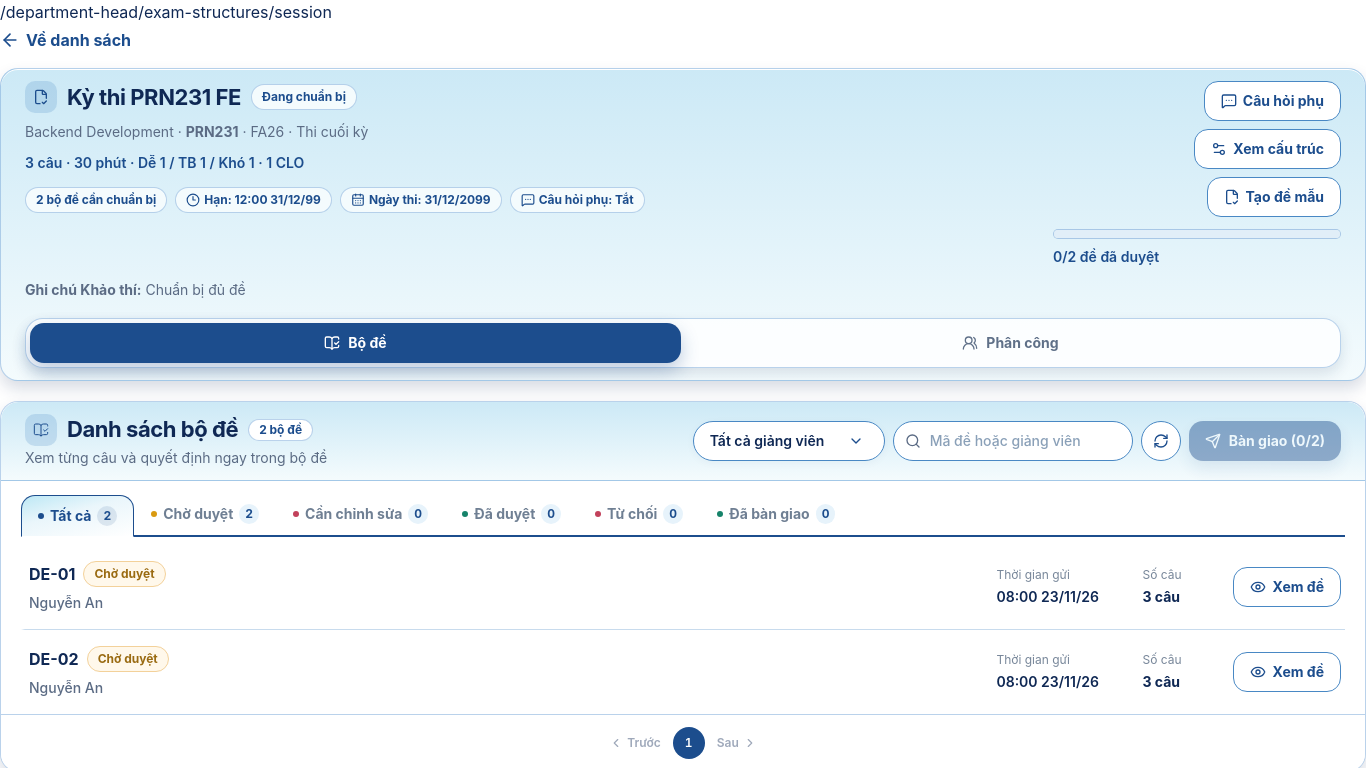
Test: Chuẩn bị đề thi trưởng bộ môn › requires revision notes and preserves the open modal on API failure
The image size is (1366, 768).
Click the button with aria-label "Xem bộ đề DE-01".
click(52, 574)  # box [21, 545, 1345, 630]
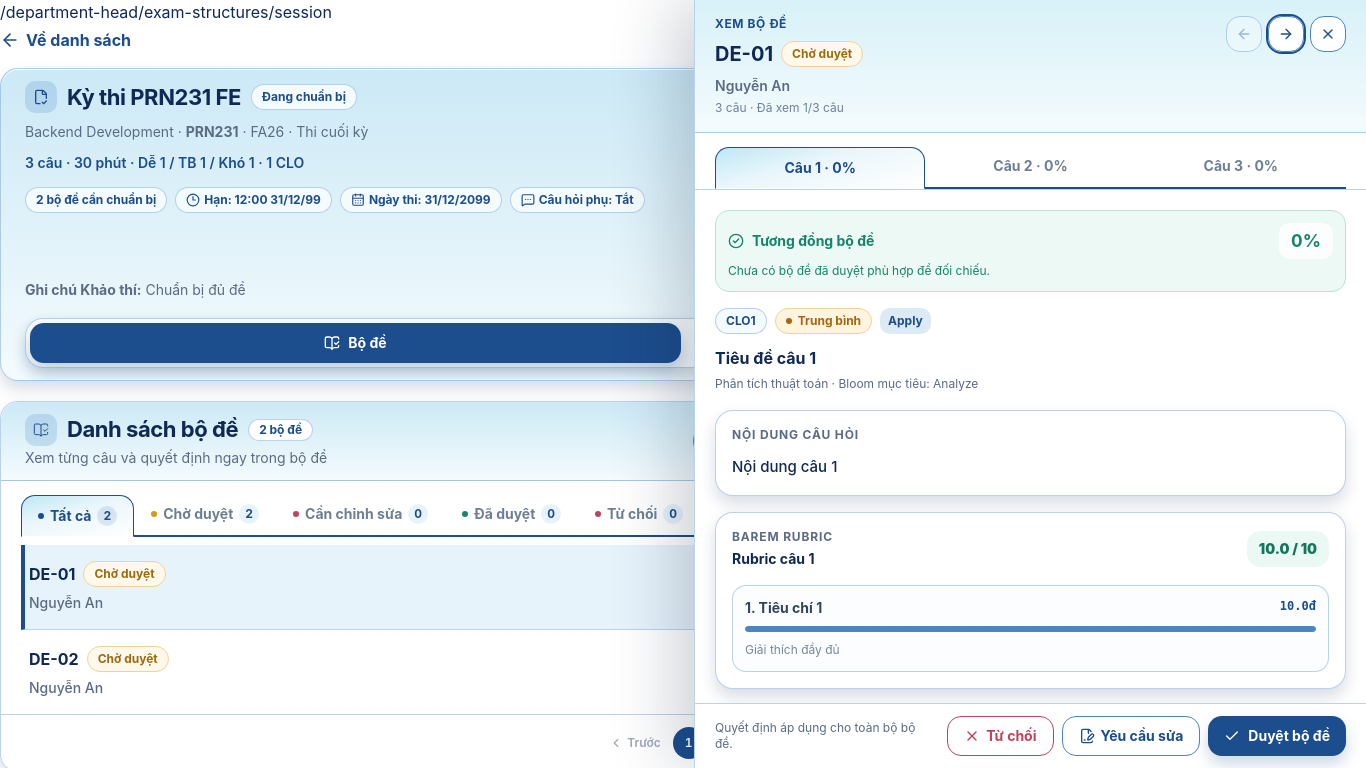
Click the button "Yêu cầu sửa".
click(1131, 736)  # box [1062, 716, 1200, 756]
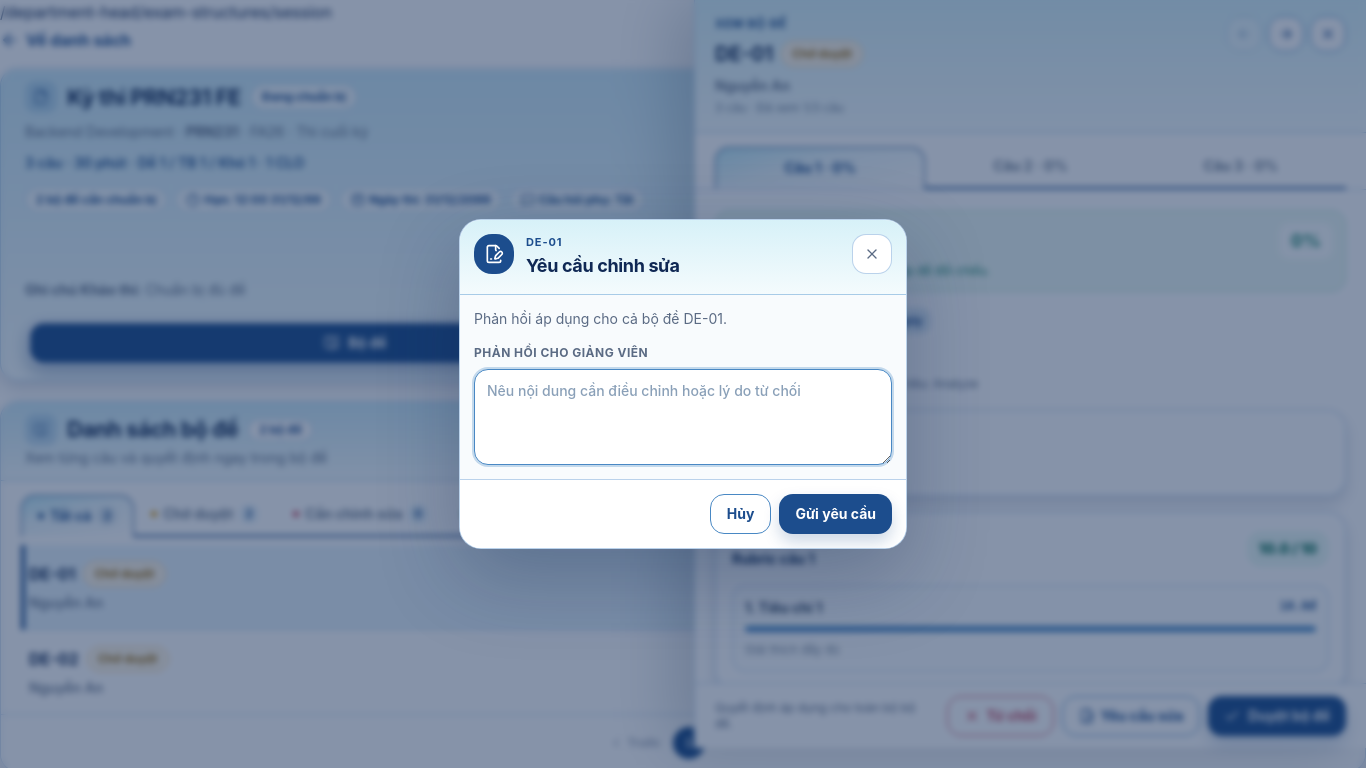
Submit the form, box [474, 309, 892, 465]
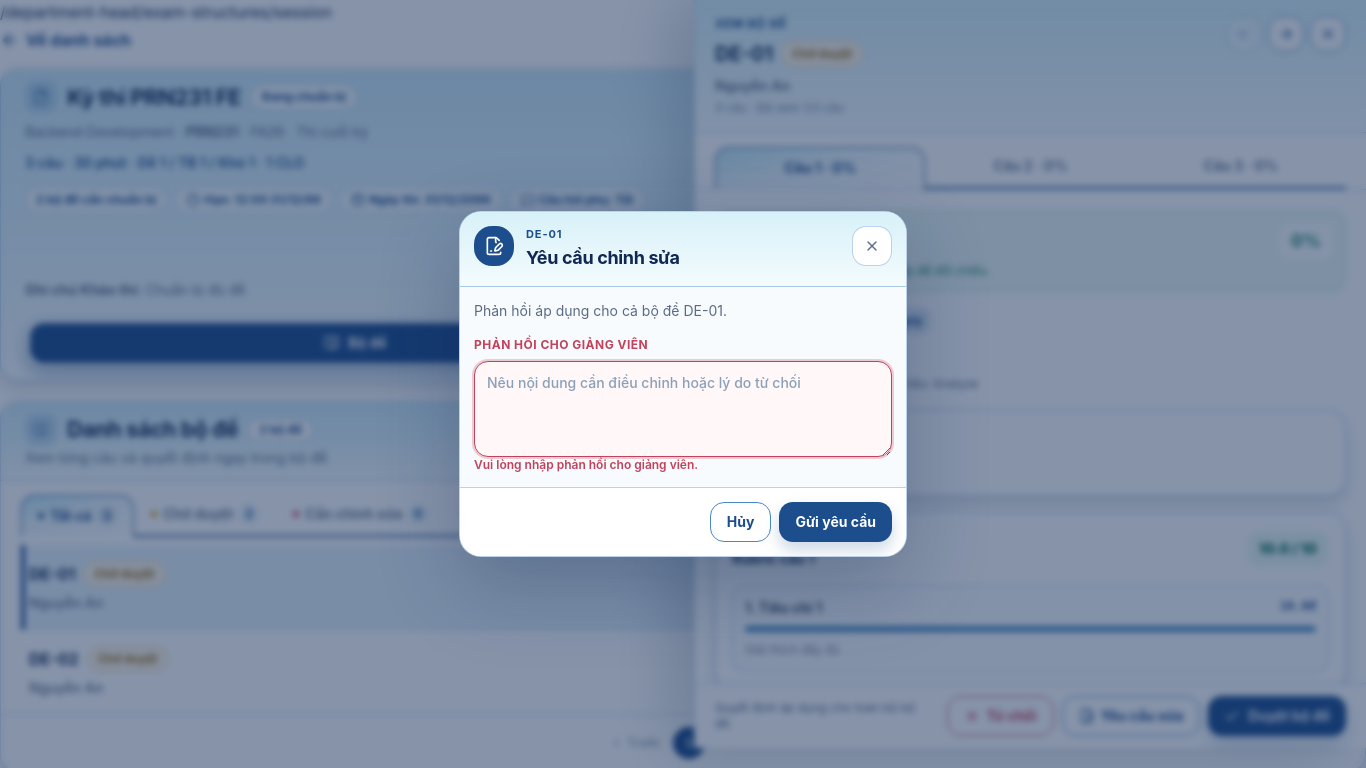
Expected: the text "Vui lòng nhập phản hồi cho giảng viên." is shown, [474, 457, 698, 472]
Type "Làm rõ tiêu chí chấm" into the text box labelled "Phản hồi cho giảng viên".
click(683, 409); type("Làm rõ tiêu chí chấm")  # box [474, 361, 892, 457]
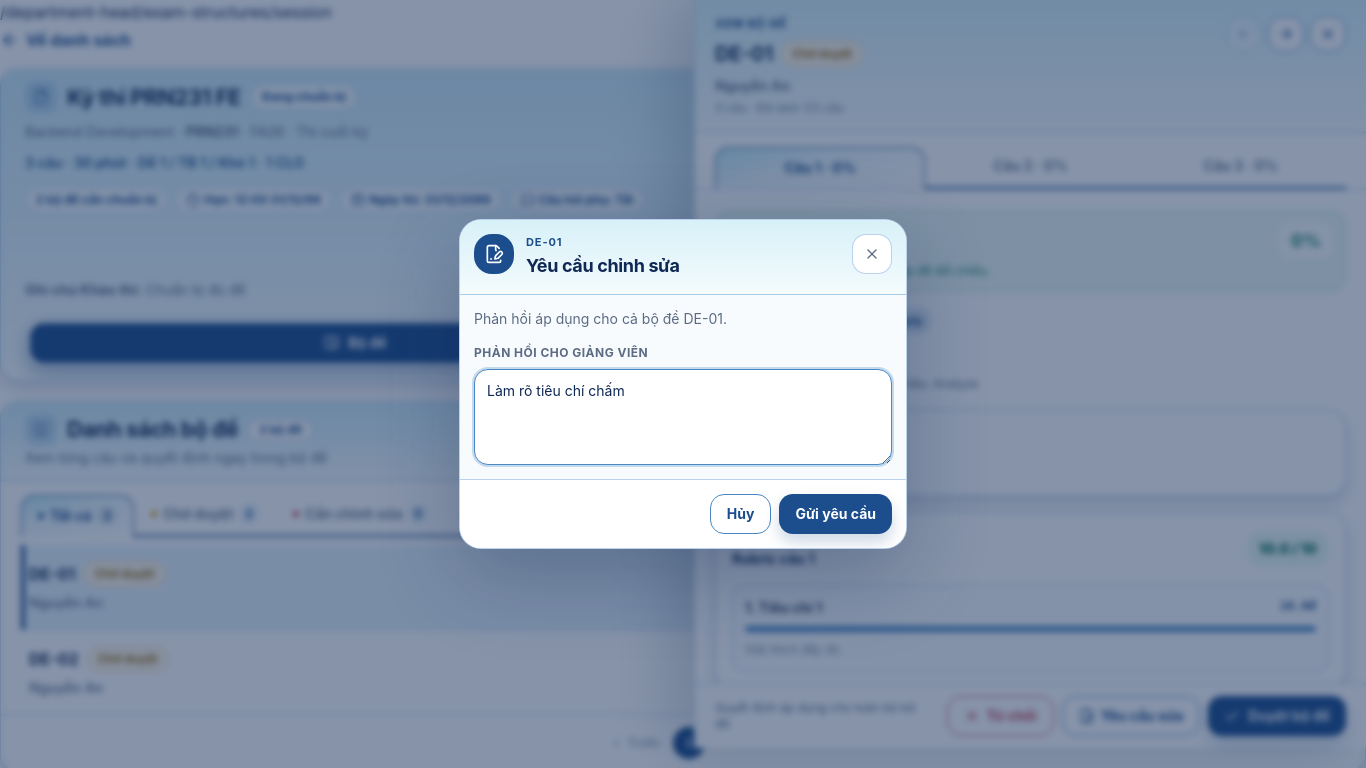
Submit the form, box [474, 309, 892, 465]
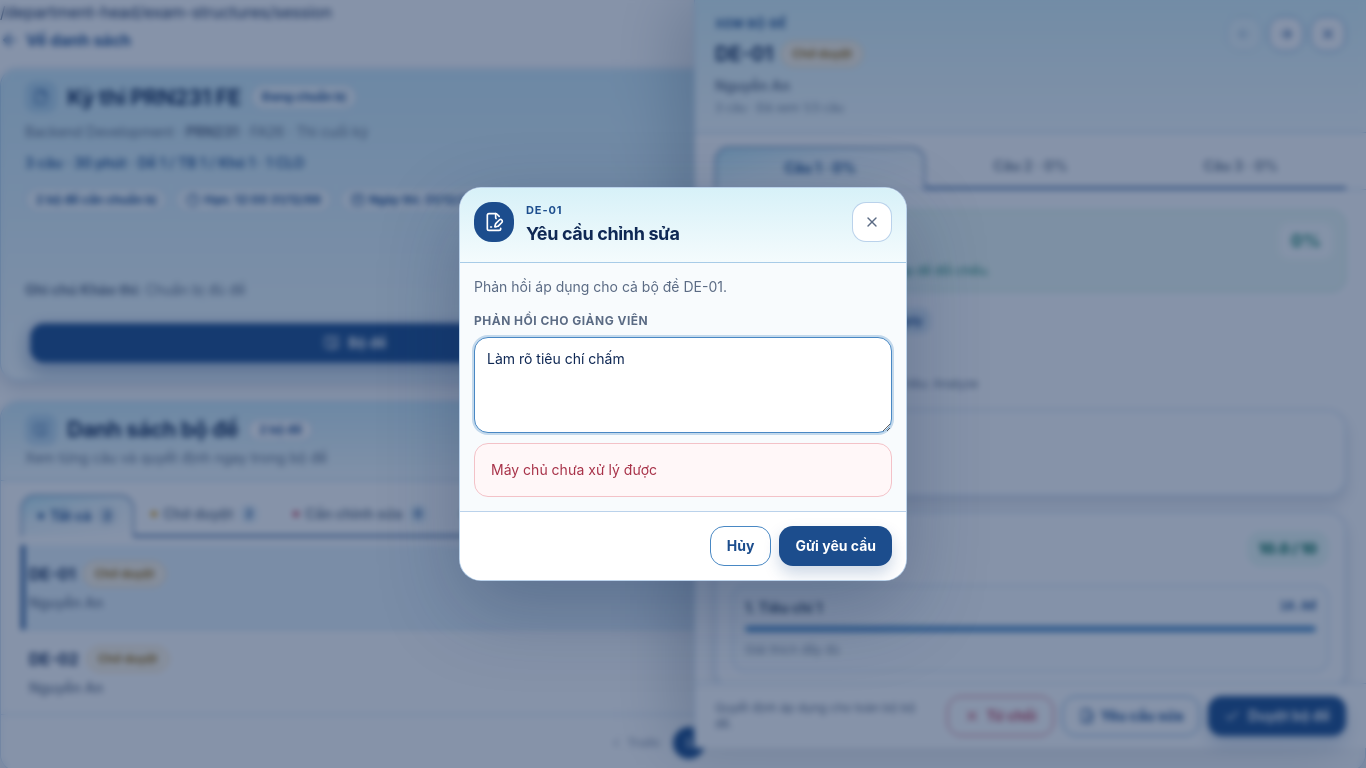
Expected: the message reads "Máy chủ chưa xử lý được", [491, 461, 657, 478]
